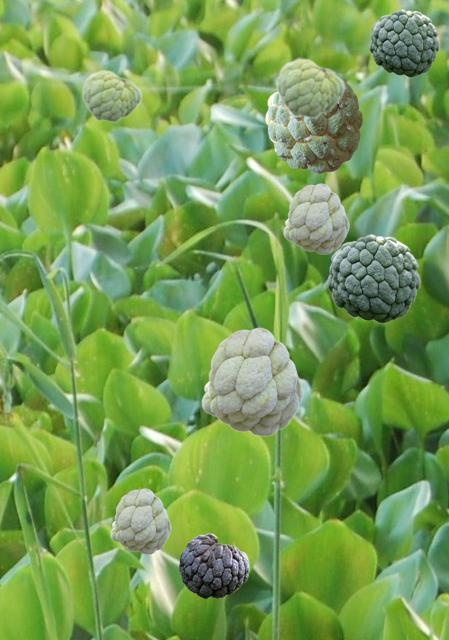atis: (201, 327, 302, 435), (265, 68, 361, 172), (327, 234, 419, 322), (369, 9, 438, 76), (283, 183, 348, 253), (179, 533, 248, 597), (275, 57, 344, 118), (110, 488, 170, 553), (81, 69, 141, 122)
